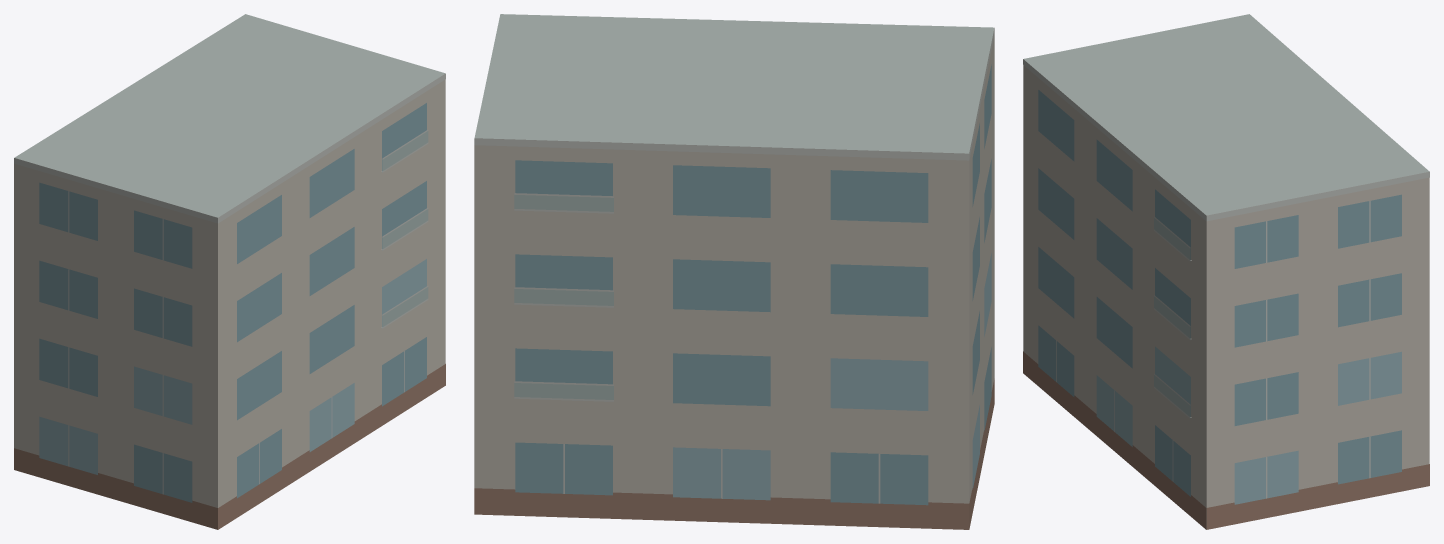
Rendered from survey-upis-32737517.glb.
The picture shows the model from 3 angles, left to right: view 1: azimuth 30°, elevation 25°; view 2: azimuth 150°, elevation 25°; view 3: azimuth 270°, elevation 25°; orthographic projection. The views are drawn at different scales.
Parts seen in each view (by area): view 1: survey-upis-32737517.tmp; view 2: survey-upis-32737517.tmp; view 3: survey-upis-32737517.tmp.
Boxes of the visible parts, <box> form: survey-upis-32737517.tmp: <box>14,14,445,529</box>; survey-upis-32737517.tmp: <box>474,14,994,529</box>; survey-upis-32737517.tmp: <box>1023,14,1429,529</box>.
Bounding box in the file's own units: 18.16 × 13.19 × 15.48.
